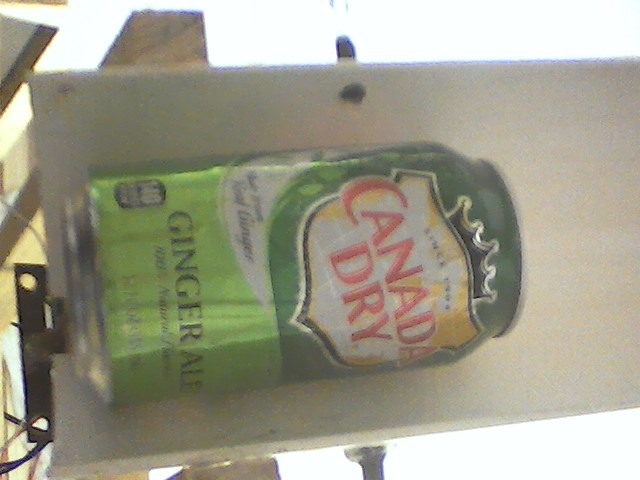lata: (64, 136, 539, 416)
